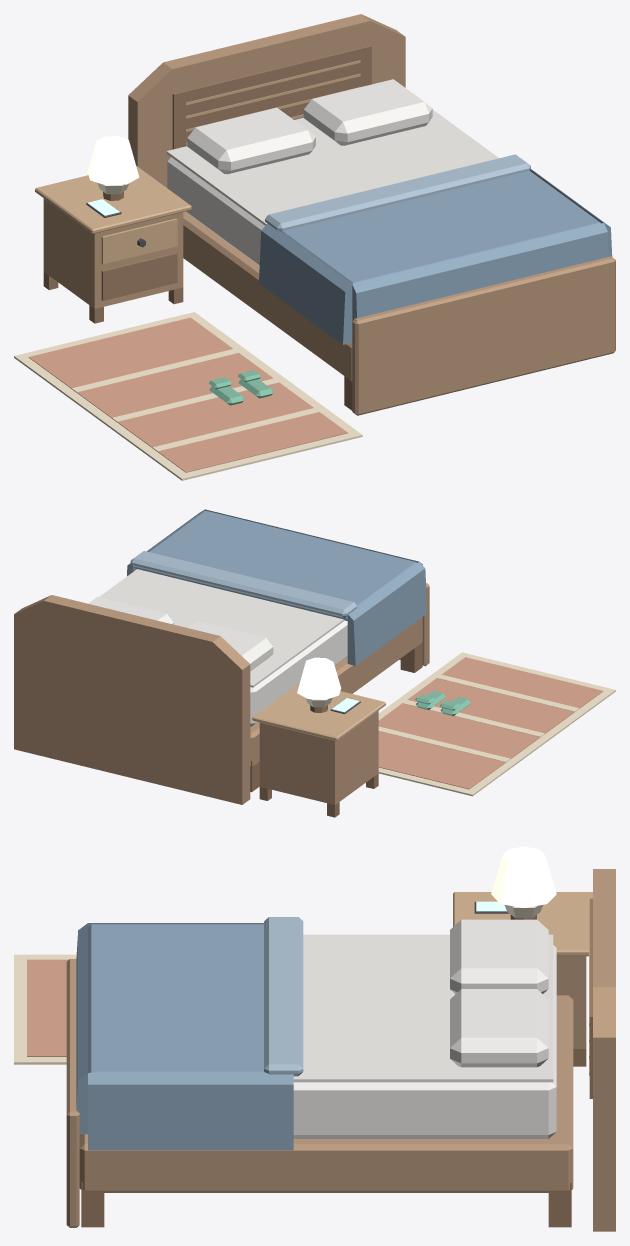
The model's file is bedroom.glb.
The picture shows the model from 3 angles, top to bottom: view 1: azimuth 30°, elevation 25°; view 2: azimuth 150°, elevation 25°; view 3: azimuth 270°, elevation 25°; orthographic projection. The views are drawn at different scales.
Parts seen in each view (by area): view 1: dormitorio_madera, dormitorio_cobija, dormitorio_alfombra, dormitorio_sabana, dormitorio_almohada, dormitorio_madera_oscura, dormitorio_madera_clara, dormitorio_alfombra_borde, dormitorio_cobija_borde, cama_colchon_colchon, lampara_pantalla_luz_pantalla_lampara, dormitorio_pantufla; view 2: dormitorio_madera, dormitorio_cobija, dormitorio_alfombra, dormitorio_sabana, dormitorio_alfombra_borde, dormitorio_cobija_borde, dormitorio_madera_clara, cama_colchon_colchon, dormitorio_almohada, lampara_pantalla_luz_pantalla_lampara, dormitorio_madera_oscura, dormitorio_pantufla; view 3: dormitorio_cobija, dormitorio_madera, dormitorio_sabana, cama_colchon_colchon, dormitorio_almohada, dormitorio_cobija_borde, dormitorio_madera_clara, dormitorio_alfombra, lampara_pantalla_luz_pantalla_lampara, dormitorio_madera_oscura, dormitorio_alfombra_borde.
Boxes of the visible parts, x1,y1,x2,y2 form: dormitorio_madera: (43,14,615,415); dormitorio_cobija: (259,169,612,344); dormitorio_alfombra: (28,317,347,472); dormitorio_sabana: (166,110,498,225); dormitorio_almohada: (187,79,432,174); dormitorio_madera_oscura: (43,45,371,410); dormitorio_madera_clara: (35,60,360,264); dormitorio_alfombra_borde: (14,312,362,480); dormitorio_cobija_borde: (265,154,530,231); cama_colchon_colchon: (167,157,264,265); lampara_pantalla_luz_pantalla_lampara: (87,136,139,185); dormitorio_pantufla: (209,370,274,405); dormitorio_madera: (14,583,429,804); dormitorio_cobija: (127,509,427,665); dormitorio_alfombra: (378,657,603,789); dormitorio_sabana: (99,569,343,687); dormitorio_alfombra_borde: (378,652,615,796); dormitorio_cobija_borde: (130,551,357,617); dormitorio_madera_clara: (252,683,385,741); cama_colchon_colchon: (250,620,347,726); dormitorio_almohada: (88,596,273,670); lampara_pantalla_luz_pantalla_lampara: (297,657,341,699); dormitorio_madera_oscura: (250,642,422,817); dormitorio_pantufla: (415,690,470,716); dormitorio_cobija: (76,923,293,1150); dormitorio_madera: (66,869,615,1231); dormitorio_sabana: (293,934,553,1082); cama_colchon_colchon: (293,945,556,1138); dormitorio_almohada: (450,919,548,1067); dormitorio_cobija_borde: (264,917,303,1076); dormitorio_madera_clara: (453,892,592,1075); dormitorio_alfombra: (27,959,68,1056); lampara_pantalla_luz_pantalla_lampara: (491,846,556,907); dormitorio_madera_oscura: (81,898,592,1227); dormitorio_alfombra_borde: (14,954,76,1064).
Size of the model in its own units: 3.96 by 1.5 by 3.66.
